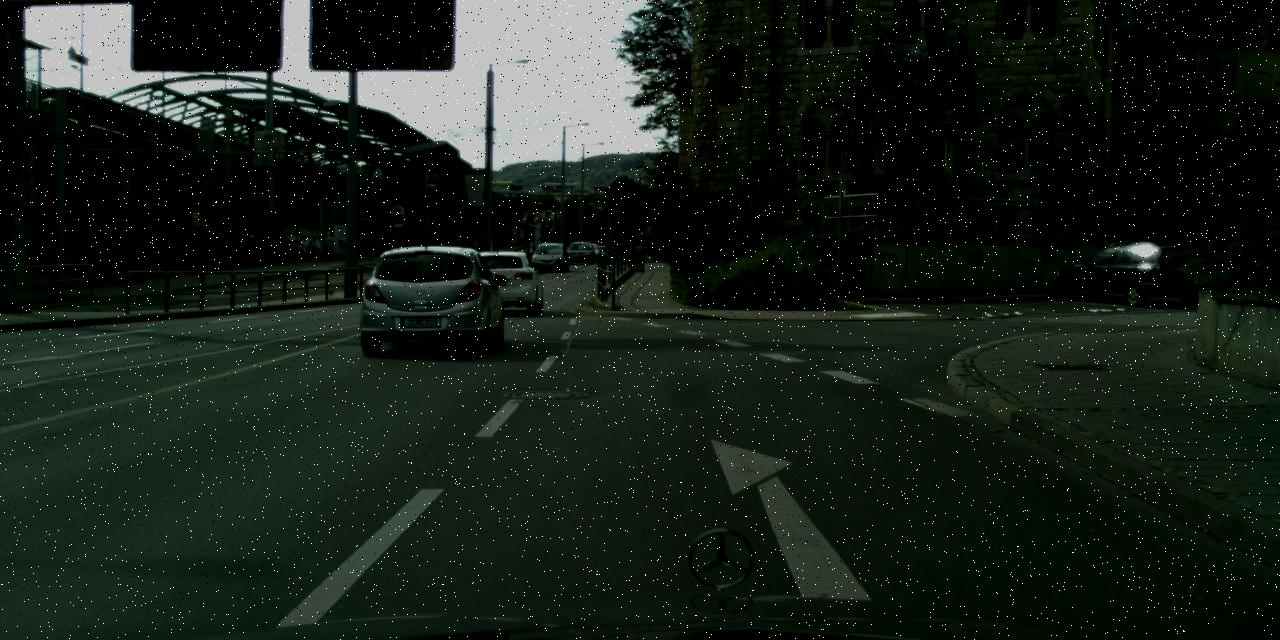ped: (244, 231, 258, 267), (472, 237, 484, 267), (384, 229, 396, 259), (322, 231, 334, 261), (452, 236, 462, 258), (538, 236, 546, 257), (378, 239, 386, 257), (610, 244, 616, 259)
